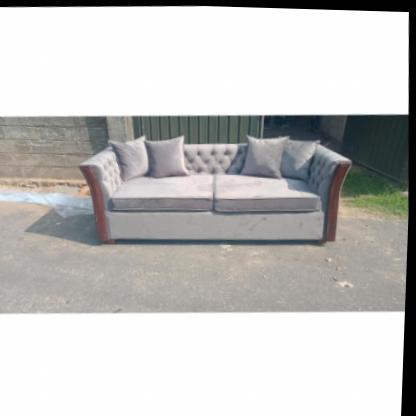Sofa: (76, 127, 356, 255)
